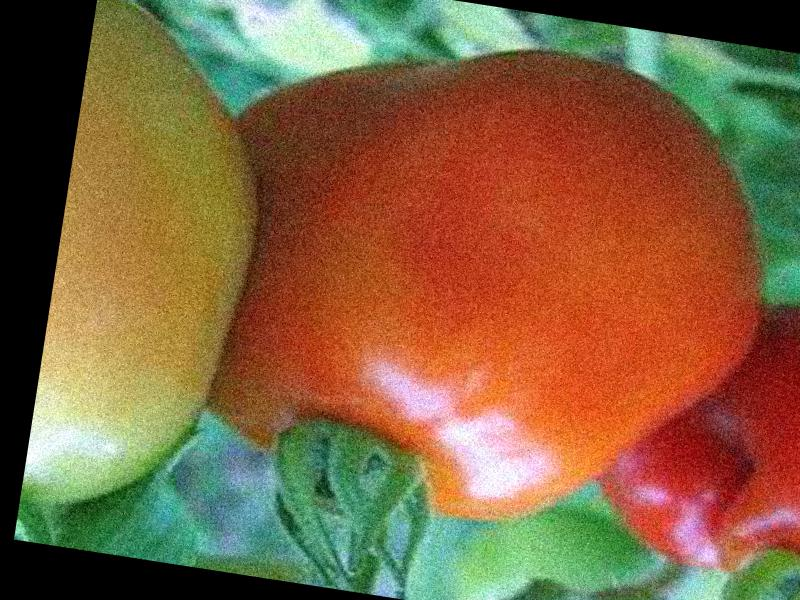Tomato: (207, 9, 796, 558)
